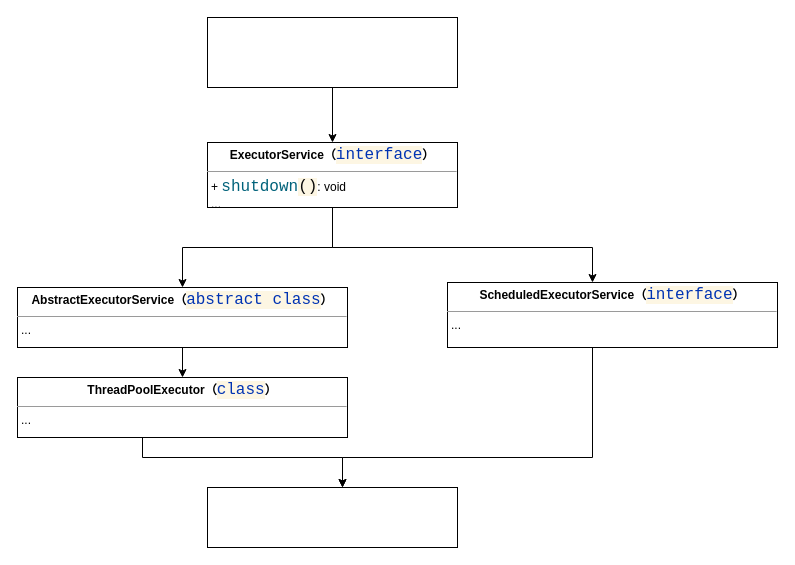
This 795x565 diagram has some shape labels left out. The centre of each missing label's shape, as x and y in pixels:
"Executor（ interface ） + execute(Runnable command)): void" goes at [332,52].
"ScheduledThreadPoolExecutor ..." goes at [332,517].
